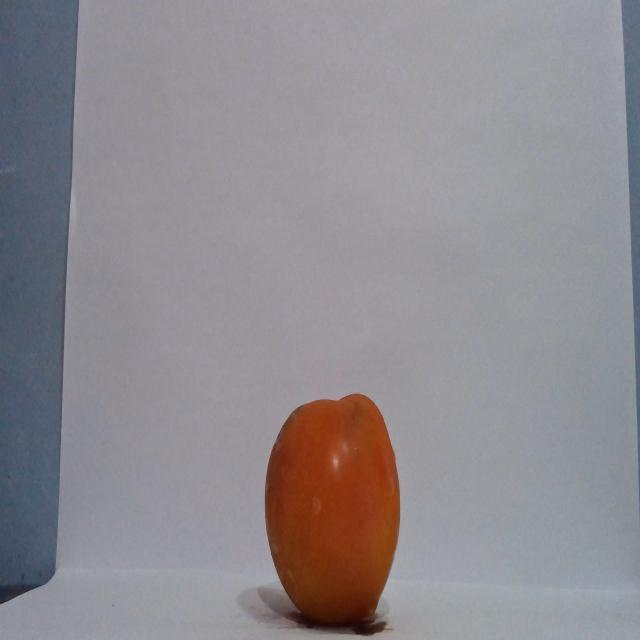Red: (263, 391, 401, 626)
